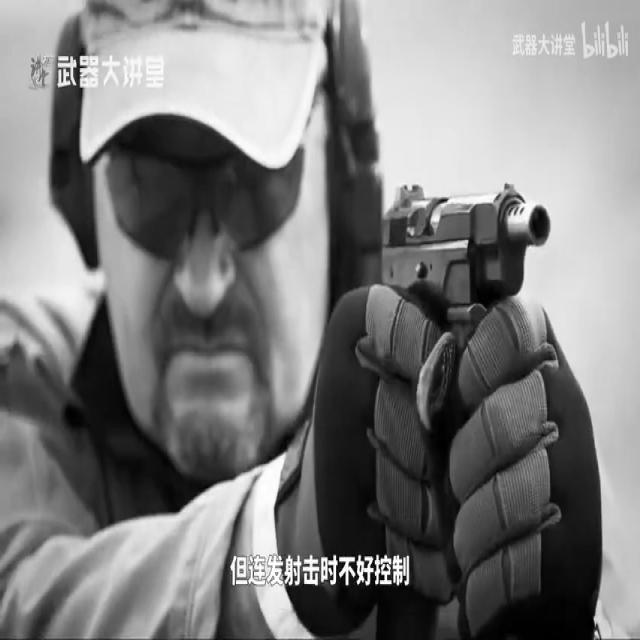Hand-Gun: (366, 164, 562, 359)
